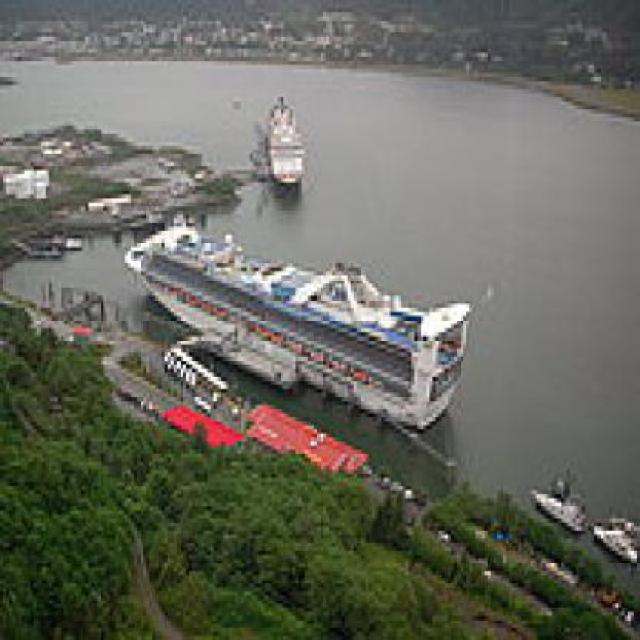cruise: (120, 203, 480, 431)
